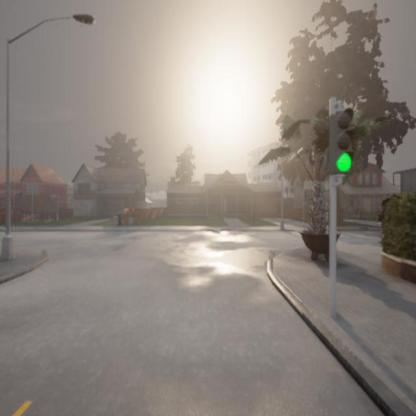traffic_light_green: (330, 110, 356, 176)
